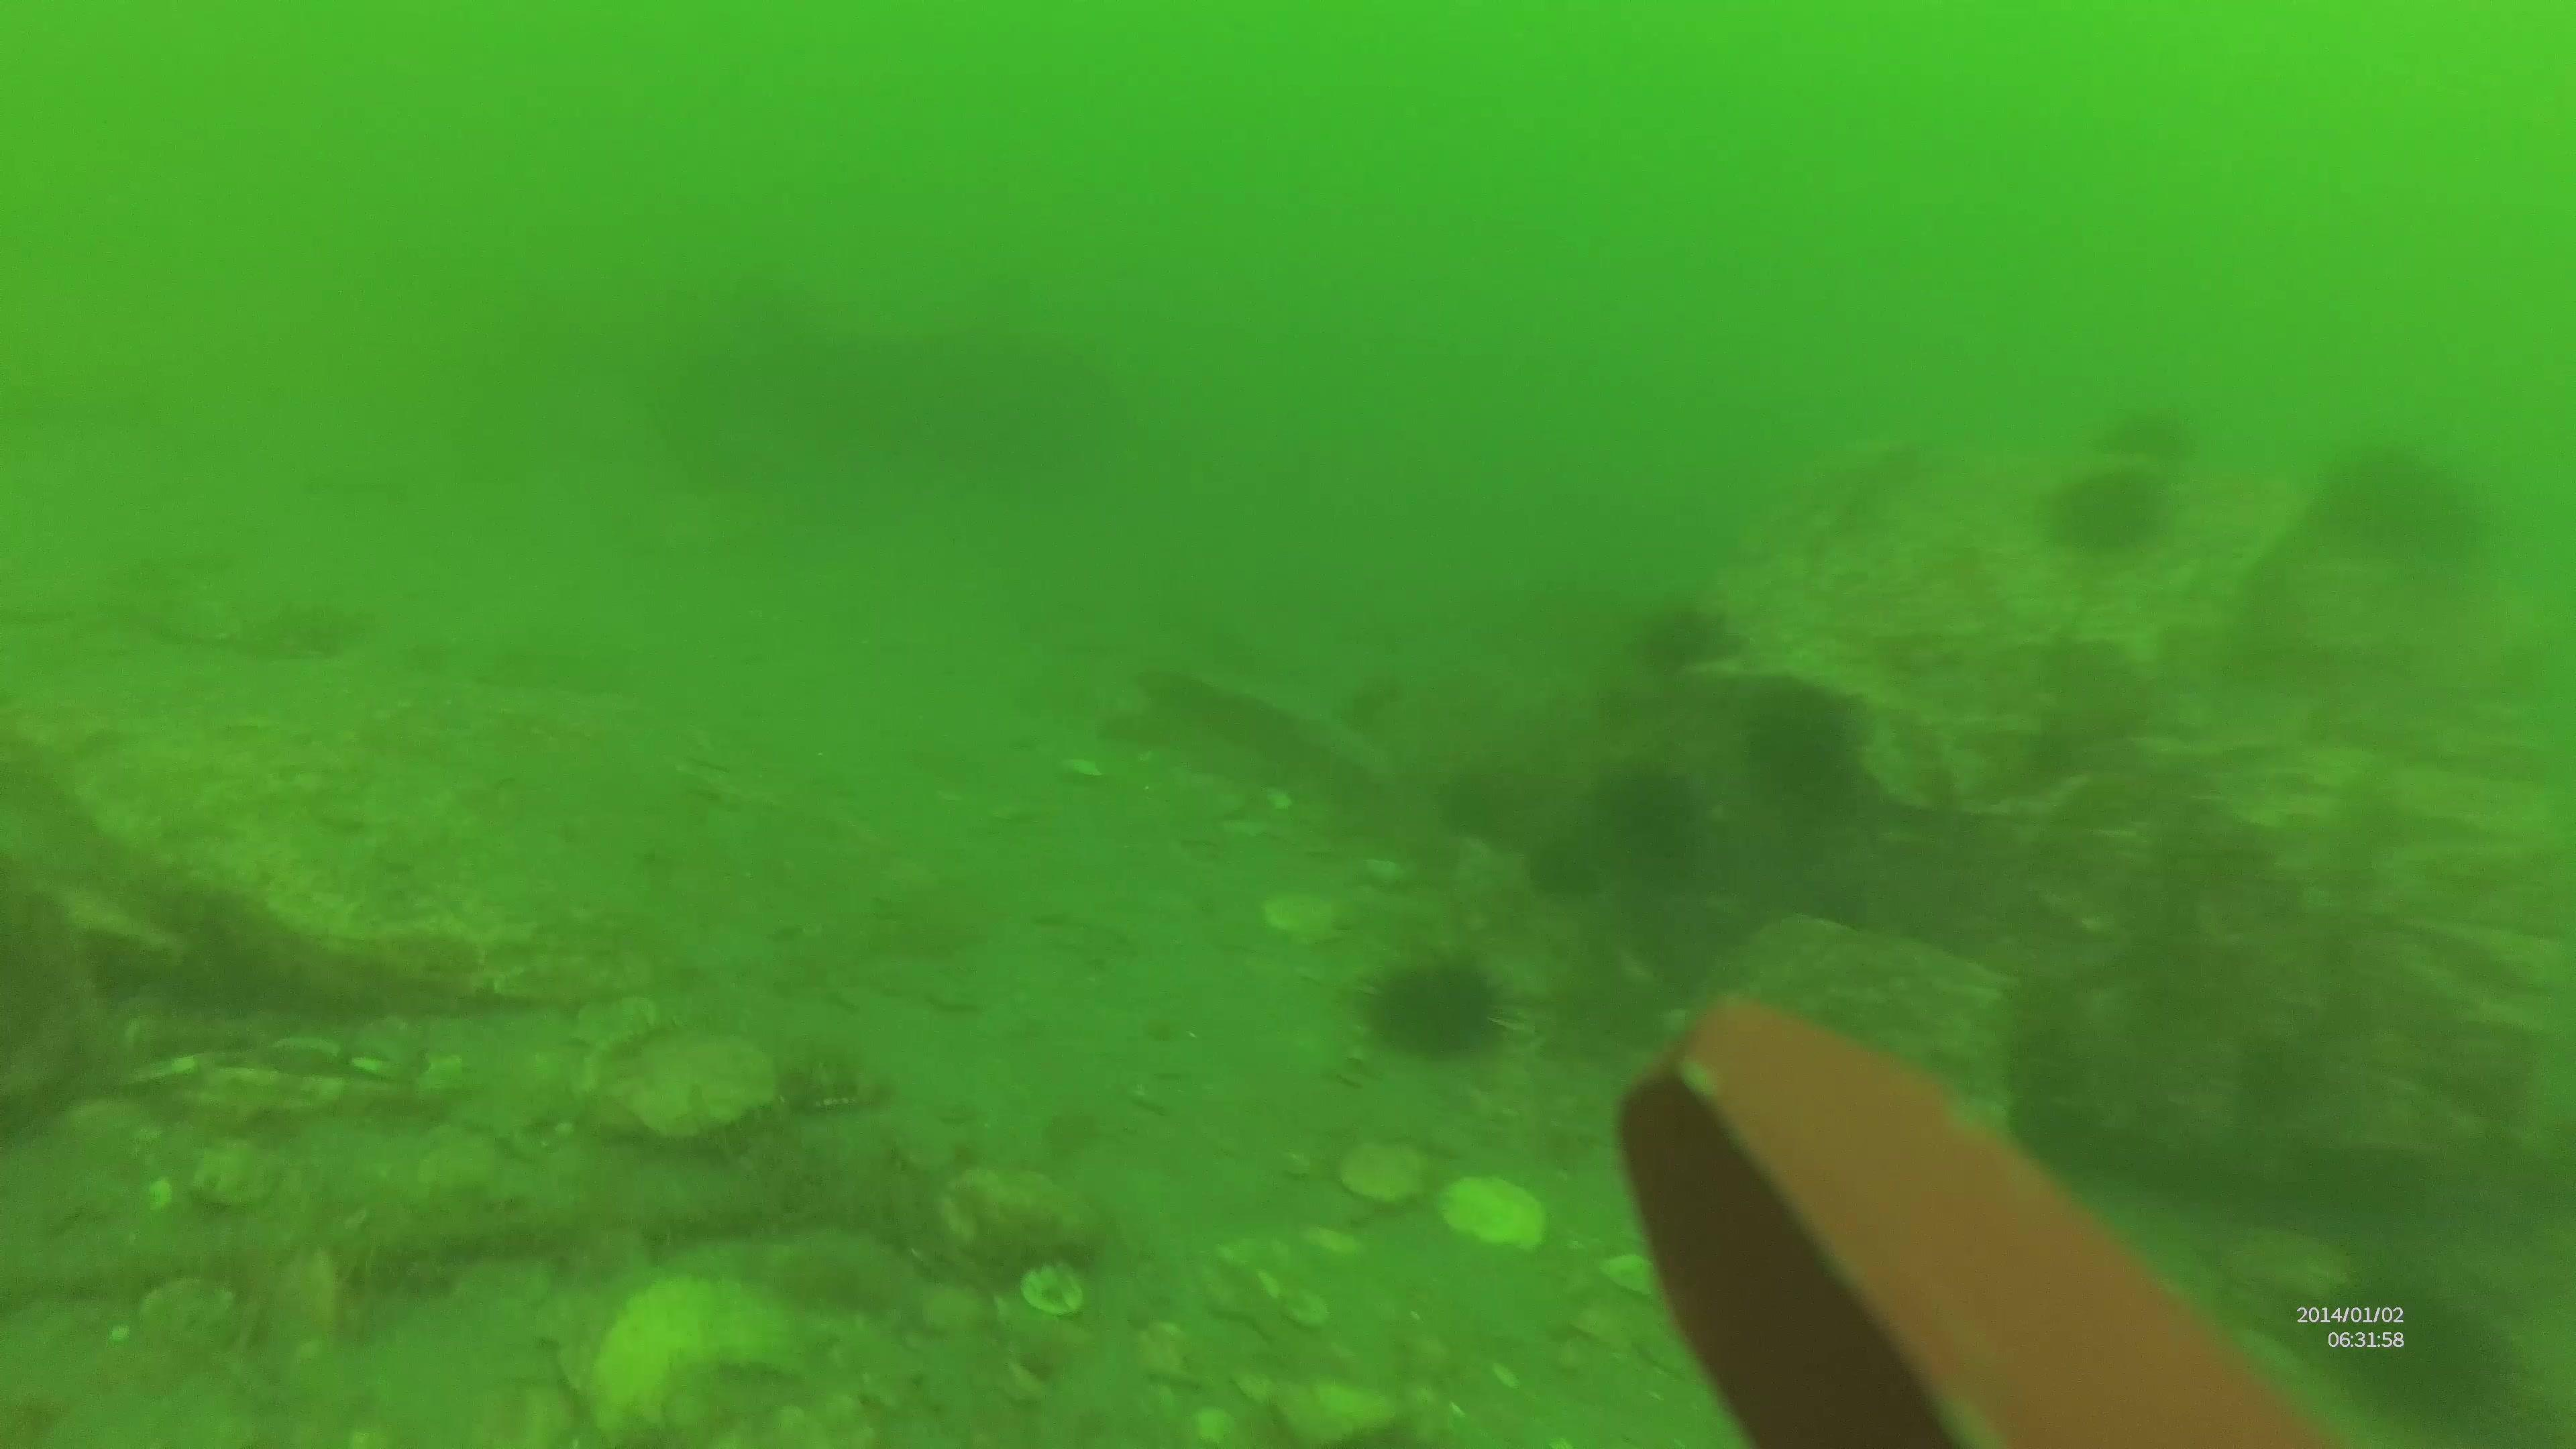echinus: (1357, 948, 1514, 1063), (1587, 761, 1706, 869), (2043, 469, 2169, 550), (1523, 828, 1614, 902)
scallop: (1440, 1171, 1550, 1254)
